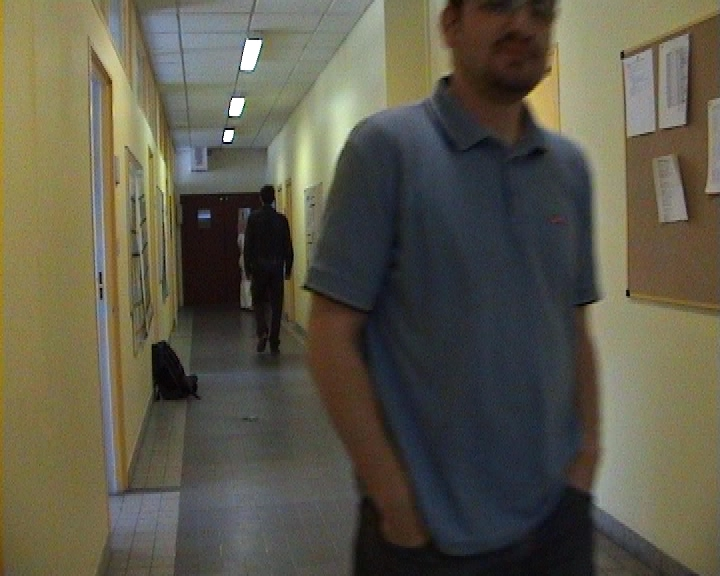leave bag unattended: (127, 320, 265, 486)
